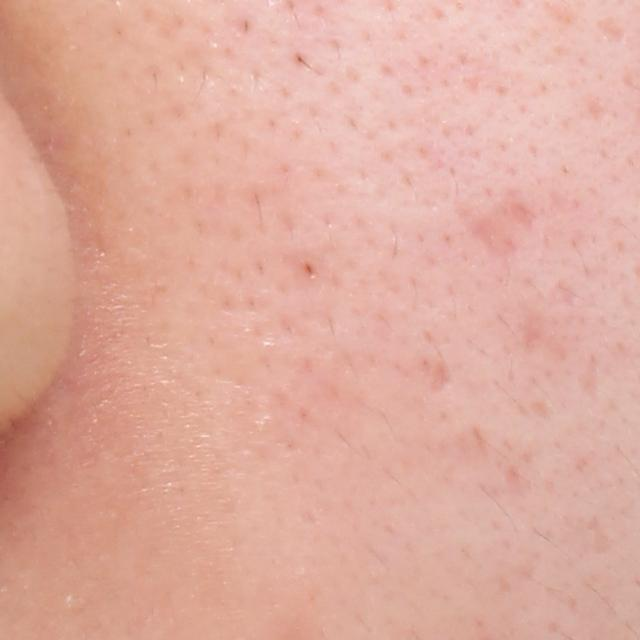atrophic_scar: (458, 187, 542, 262), (521, 313, 576, 367), (426, 350, 454, 394), (579, 354, 601, 400), (544, 278, 580, 306), (597, 16, 631, 45)
